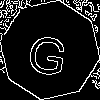G: (25, 25, 71, 78)
